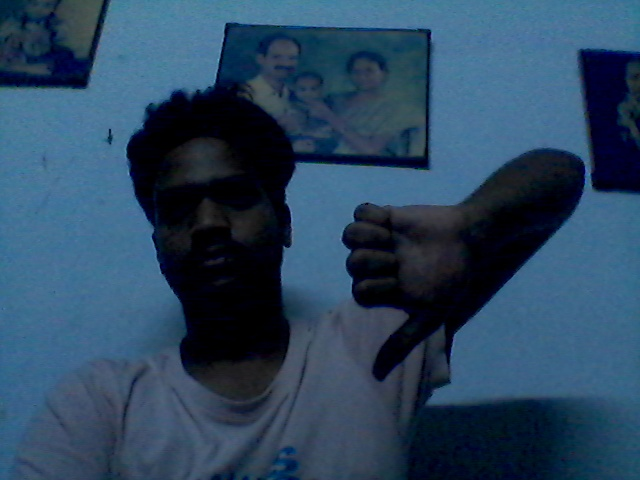Please: (337, 194, 480, 398)
